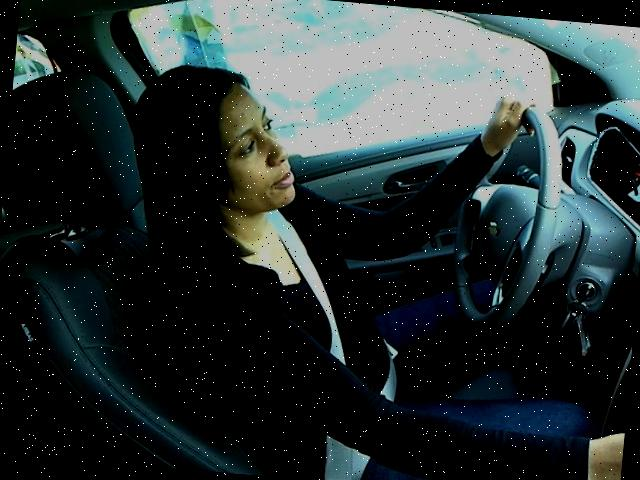c3 - Operating the Radio: (97, 48, 639, 479)
